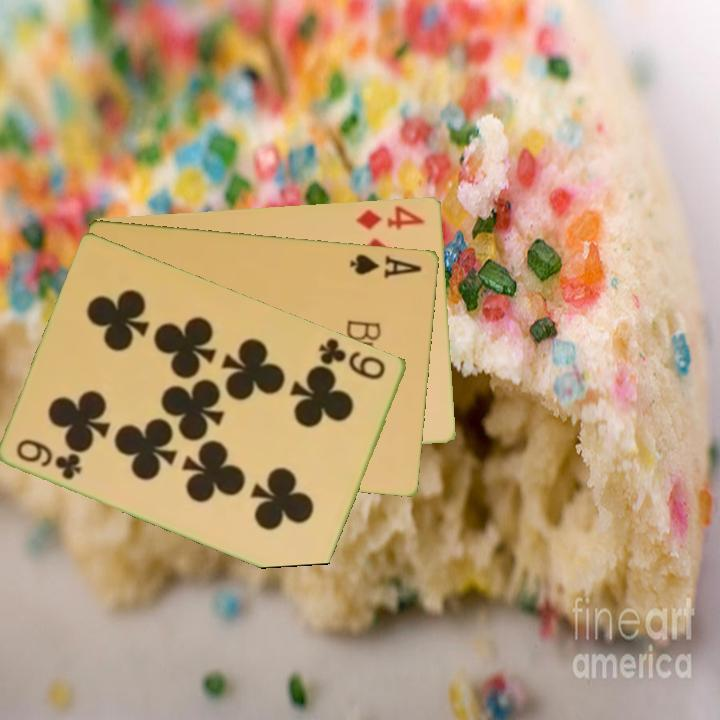4d: (353, 201, 428, 233)
9c: (315, 334, 389, 383), (13, 435, 86, 483)
As: (347, 250, 425, 281)
